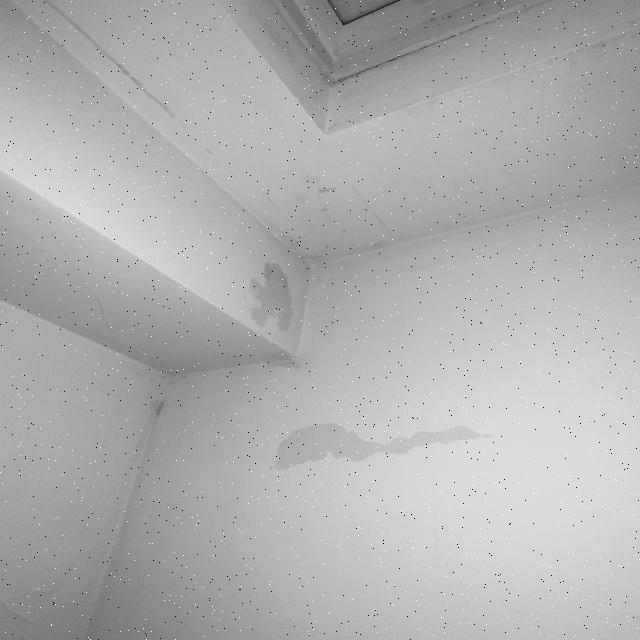stain marks: (36, 0, 187, 131), (252, 410, 526, 478), (287, 164, 391, 247), (238, 250, 321, 344), (130, 382, 176, 431)
